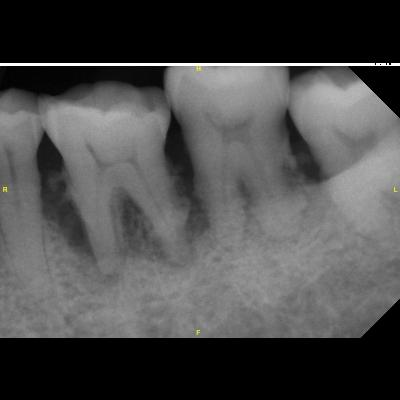tooth: (1, 87, 56, 303)
